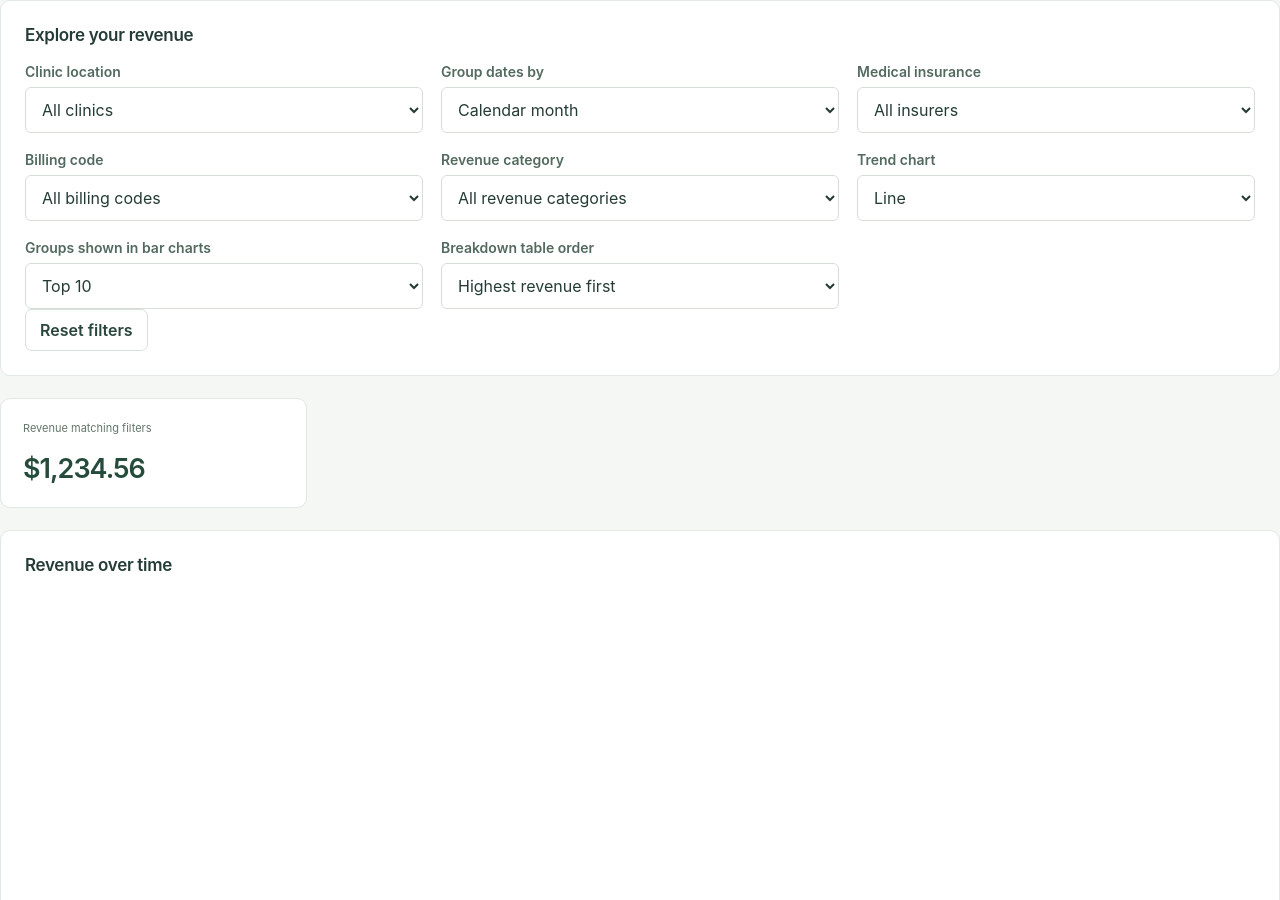
it: keeps an active category filter available to clear after the data narrows
Step 1. Select "Collections" in the dropdown labelled "Revenue category" → point(640, 198), box [441,175,839,221]
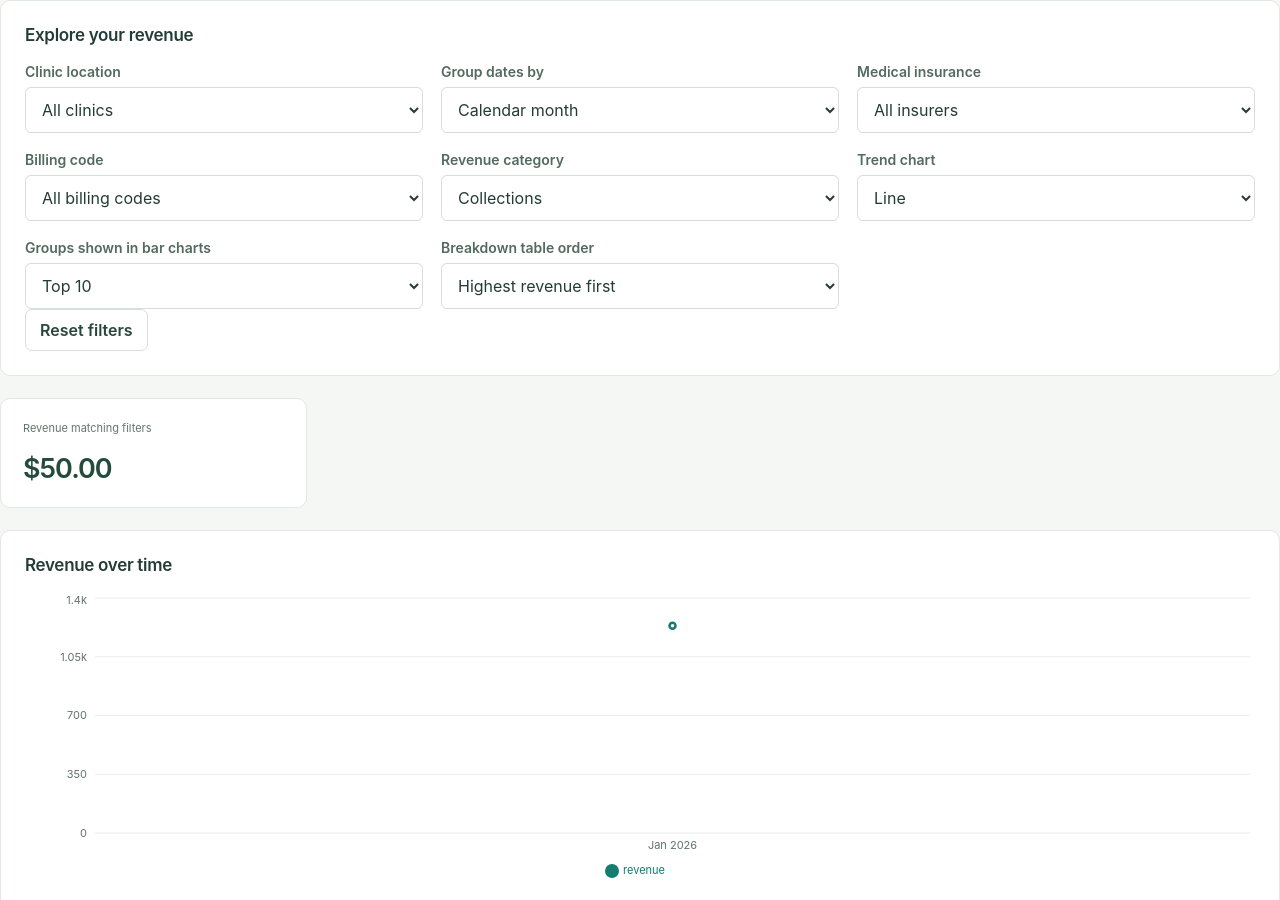
Check: the text "$50.00" is shown, box [23,452,112,485]
Step 2. Click the button "Reset filters" → point(86, 330), box [25,309,148,351]
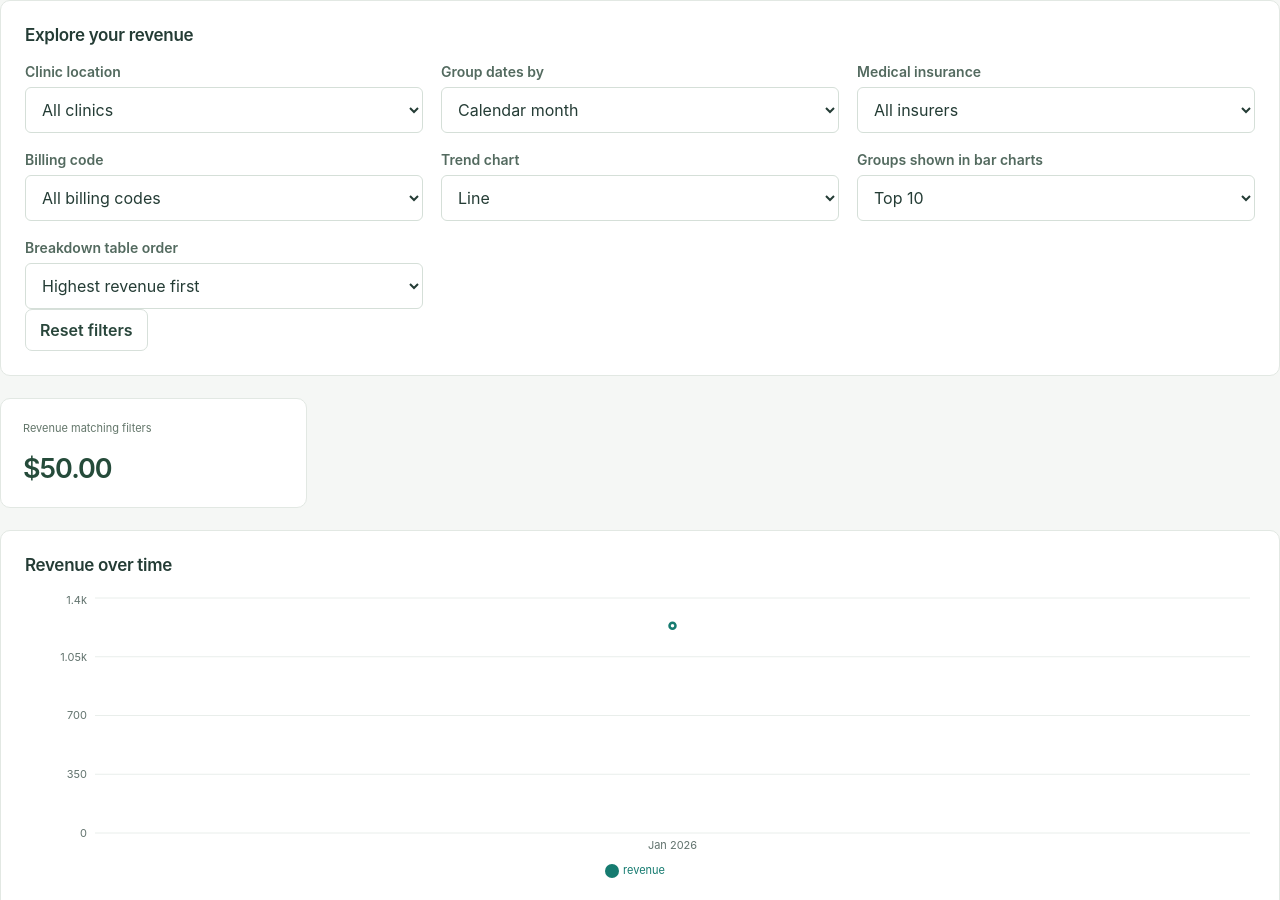
Check: the text labelled "Revenue category" is gone
